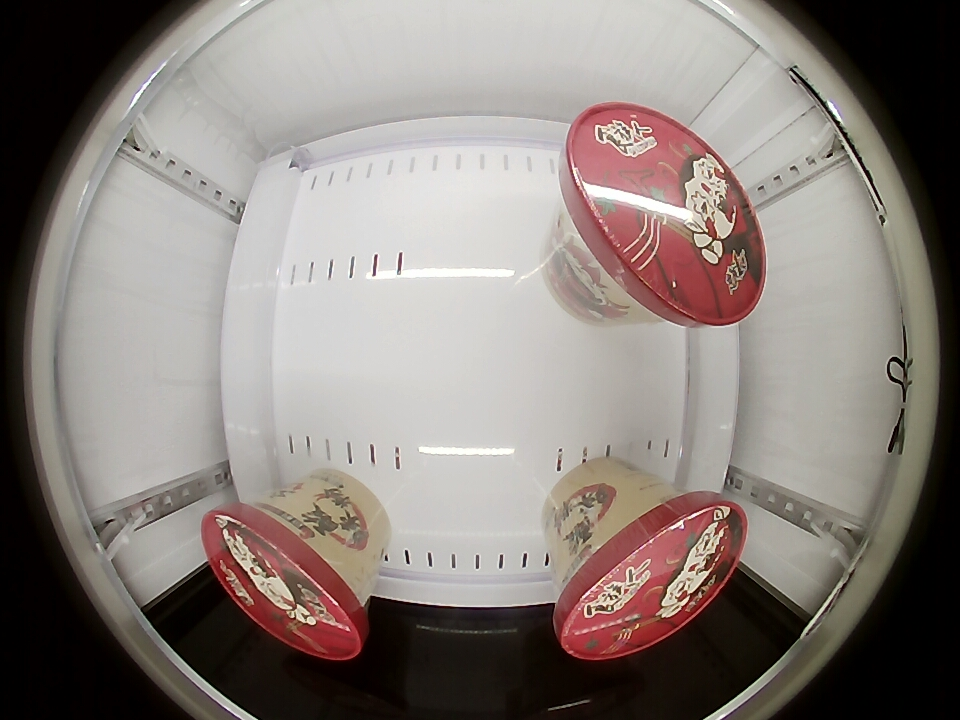suanlafen: (561, 104, 767, 326), (555, 492, 747, 660), (201, 498, 370, 660)
